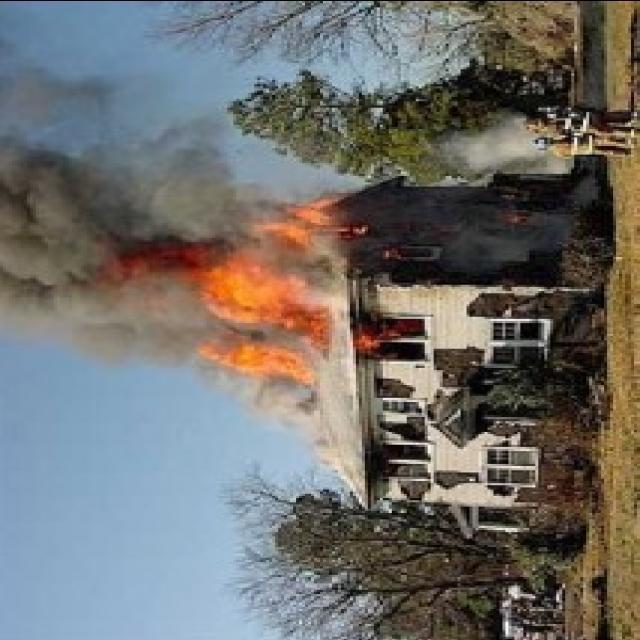Fire: (188, 198, 338, 378)
